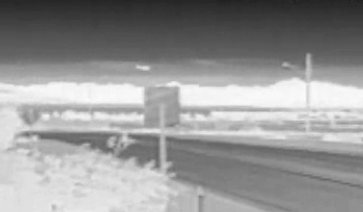Target: (137, 66, 150, 70)
